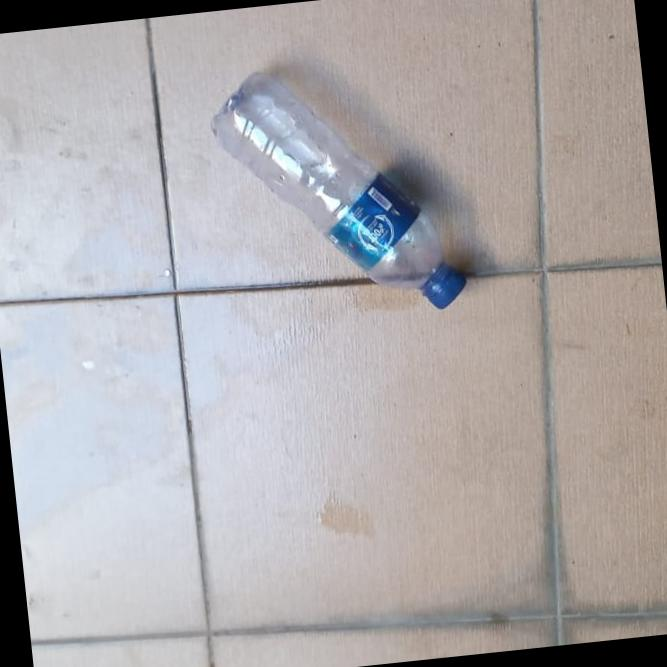Plastik: (204, 52, 468, 332)
